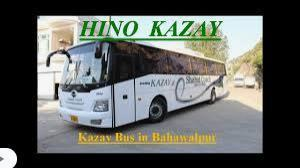bus: (55, 33, 230, 127)
